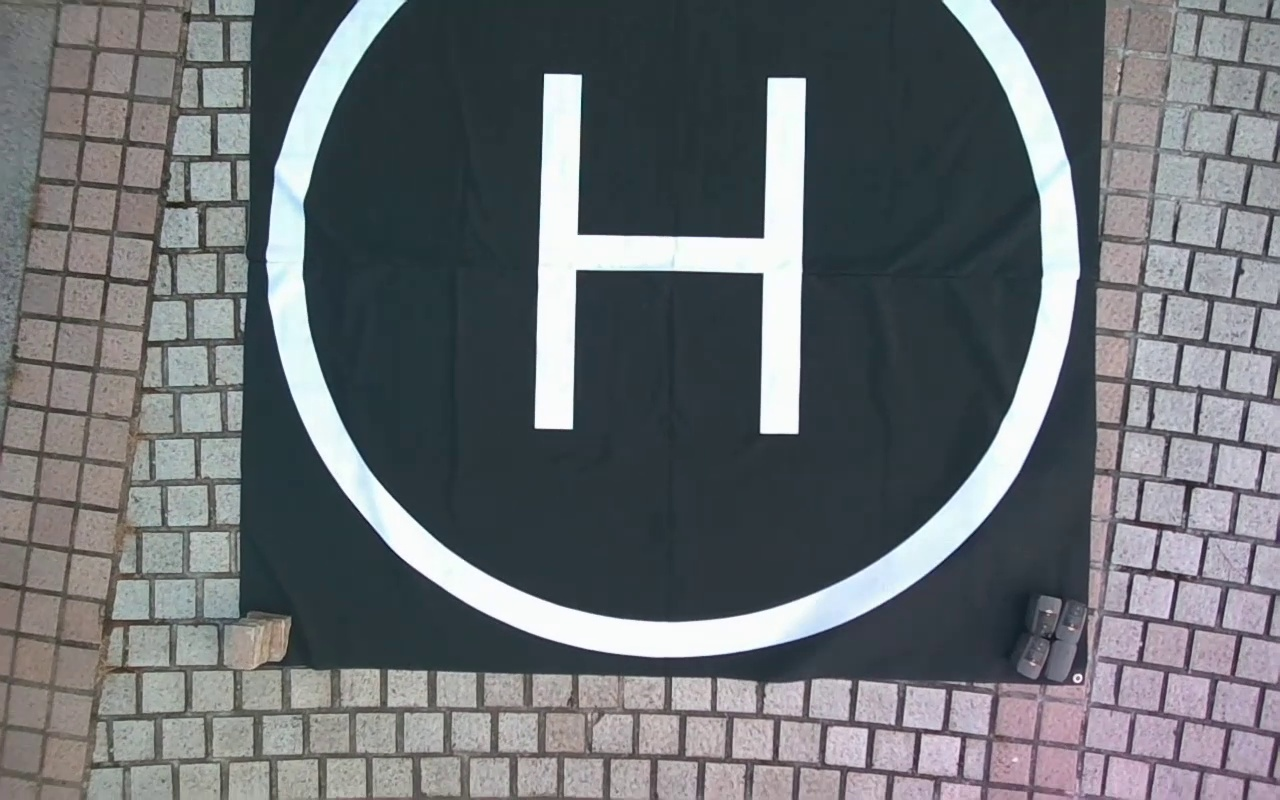H: (530, 68, 802, 440)
